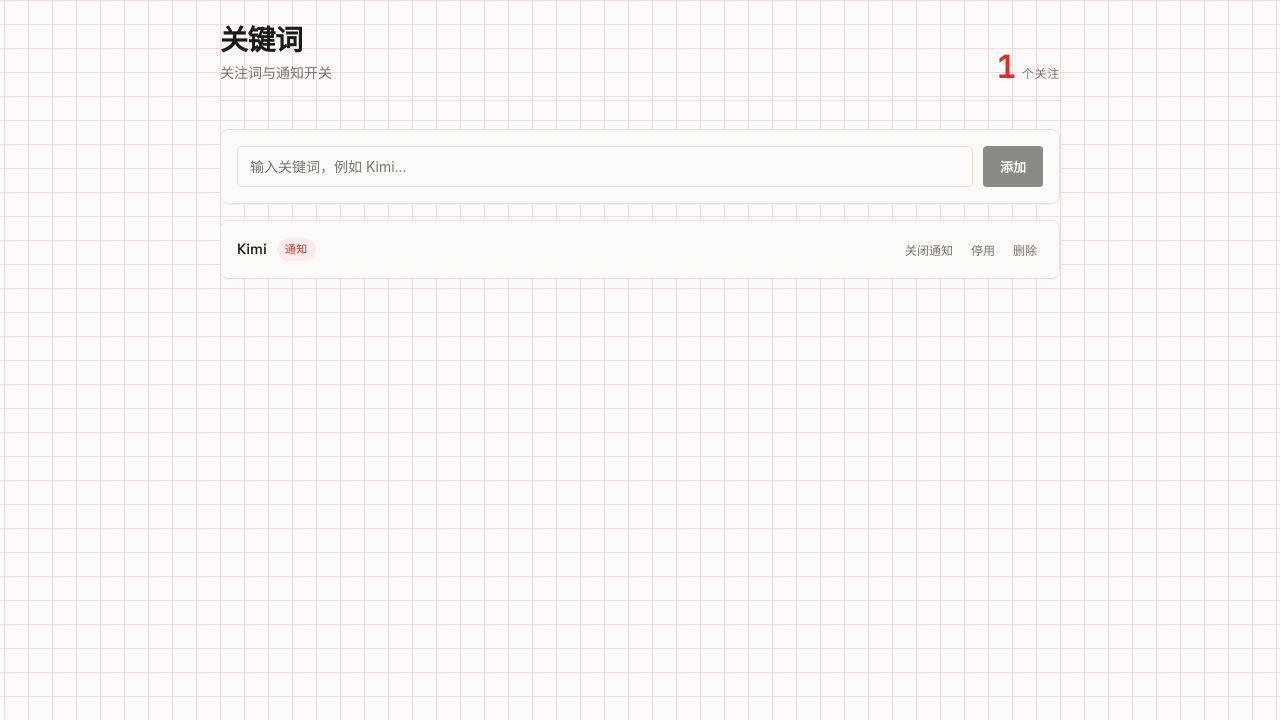
Test: KeywordsView › shows delete error when deleteKeyword fails
Click the button with class "action-danger".
click(1025, 250)  # box [1007,237,1043,262]
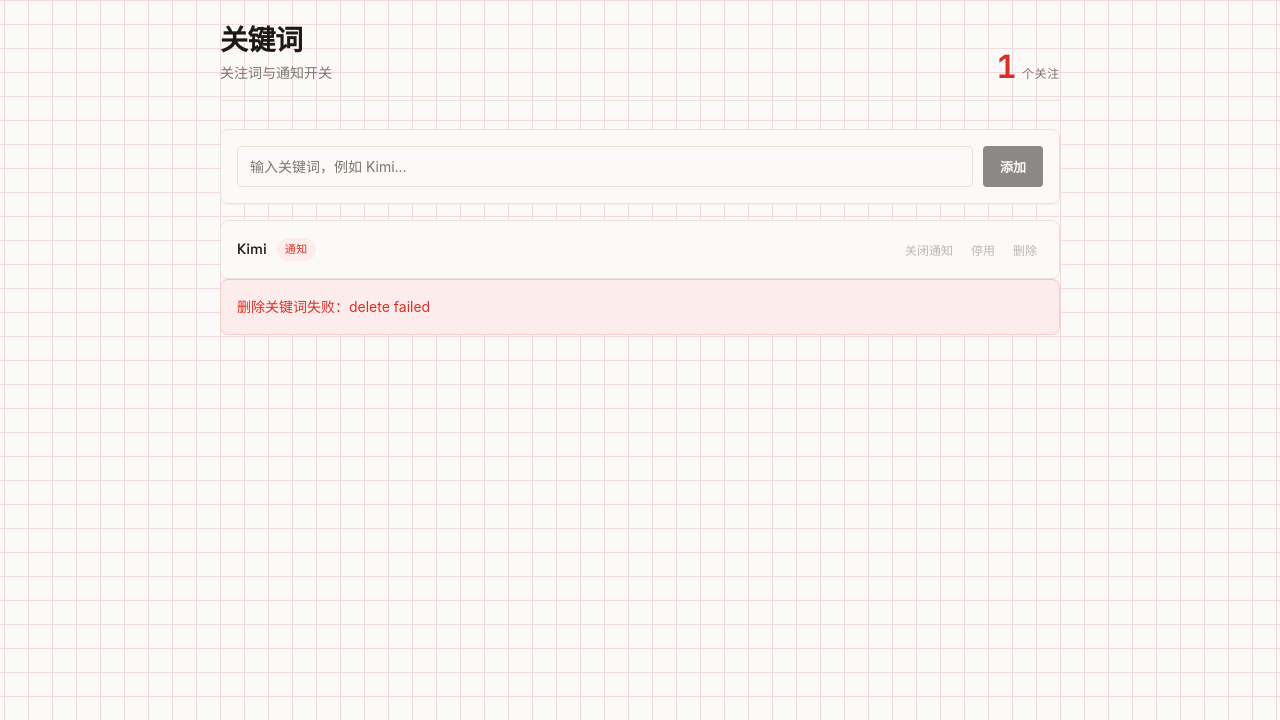
Result: the message "删除关键词失败：delete failed" is shown at [220,279,1060,335]
Result: the message with id "delete-error" shows "delete failed" at [237,298,430,315]
